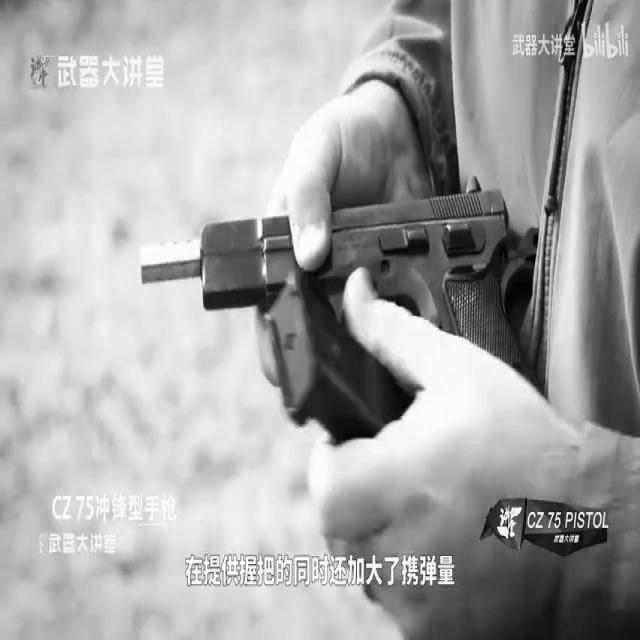Hand-Gun: (124, 107, 578, 589)
